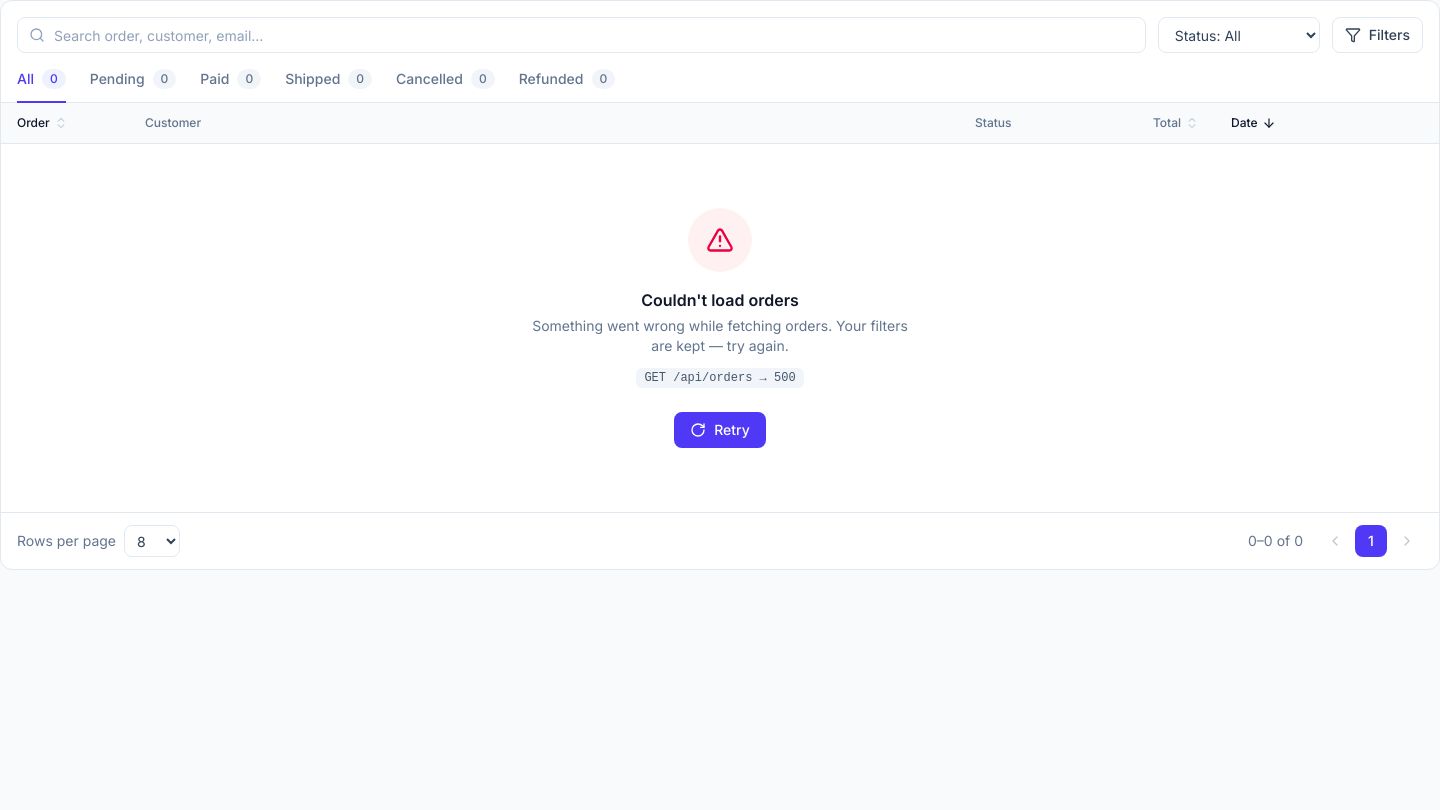
Scenario: OrdersTable — error state › shows the error and retries with the same filters
Check: the heading "Couldn't load orders" is shown, box [641, 288, 799, 312]
Check: the text "GET /api/orders → 500" is shown, box [636, 368, 804, 388]
# พิมพ์ค้นหาไว้ก่อน เพื่อเช็กว่า Retry ไม่ล้าง filter
Type "aom" into the search field at (581,35), box [17, 17, 1146, 53]
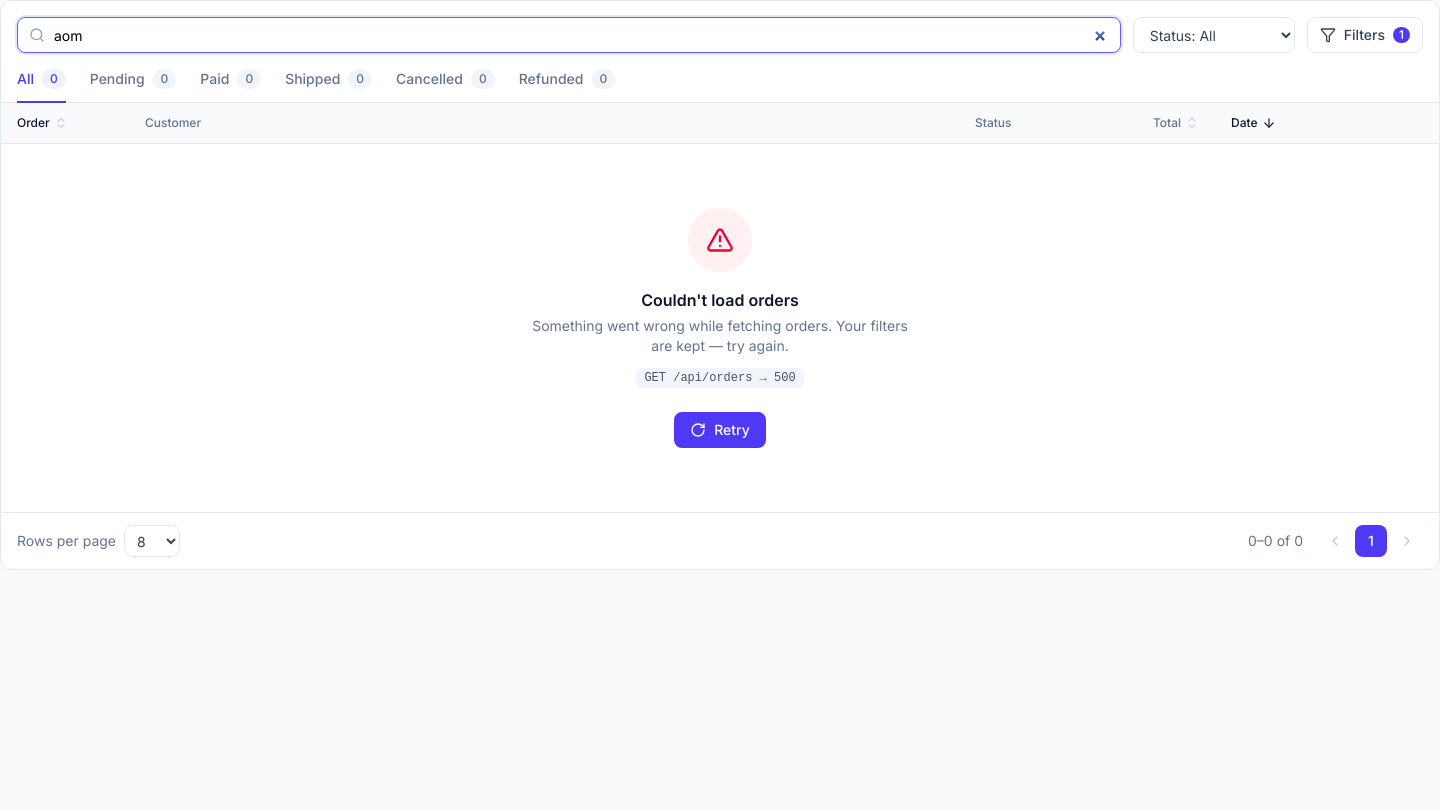
# กด Retry → เรียก fetchOrders ซ้ำ
Click the button "Retry" at (720,430), box [674, 412, 766, 448]
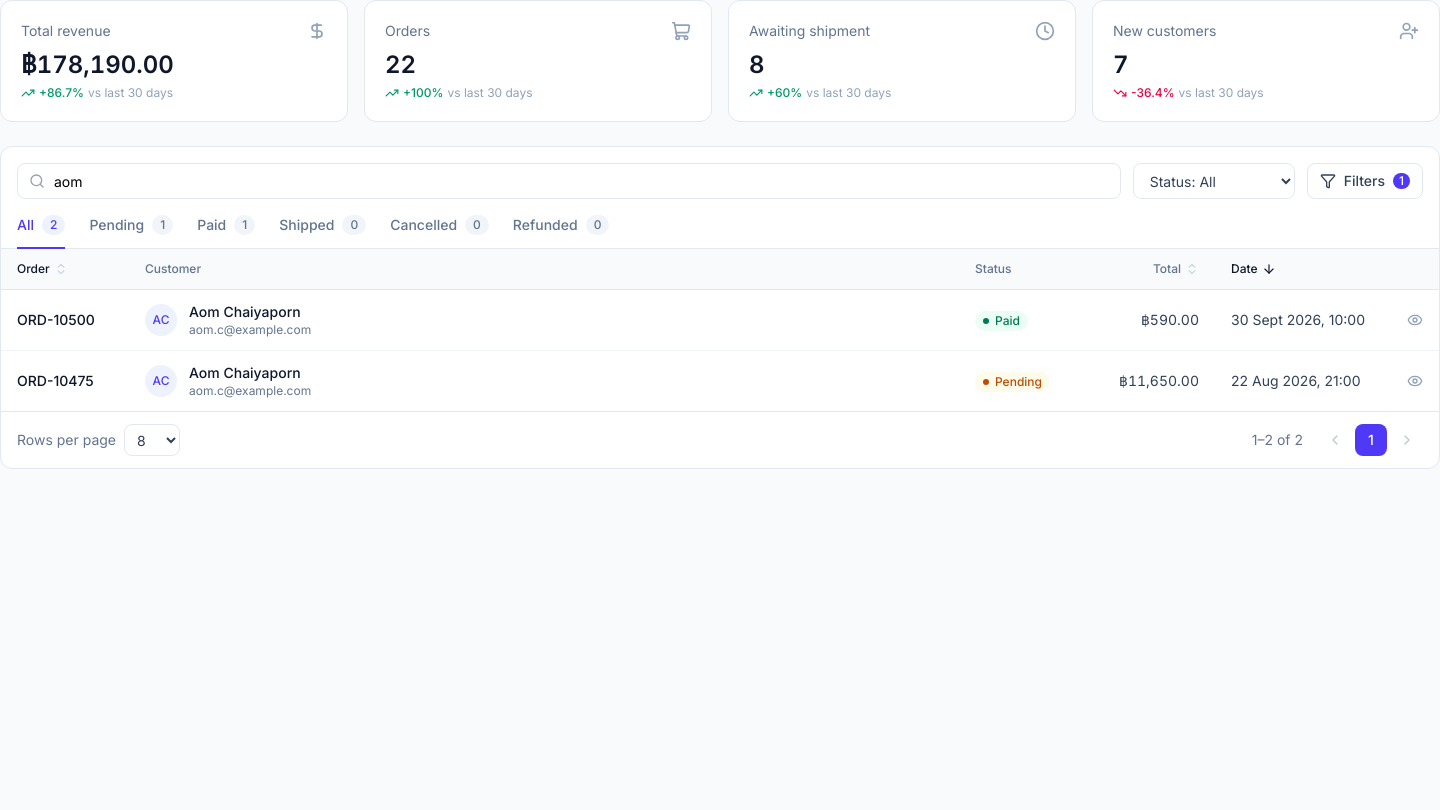
Check: the text "ORD-10500" is shown, box [1, 290, 129, 350]
Check: the heading "Couldn't load orders" is gone
